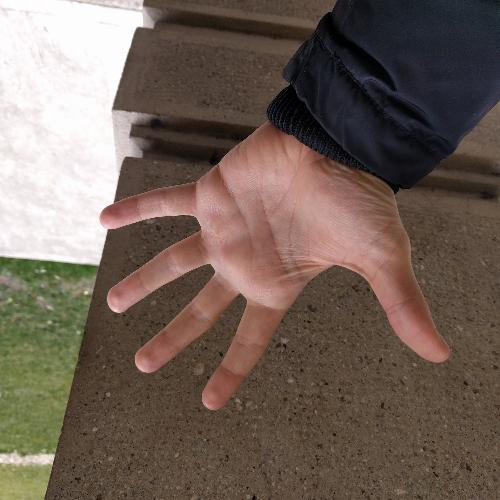paper: (93, 115, 457, 418)
